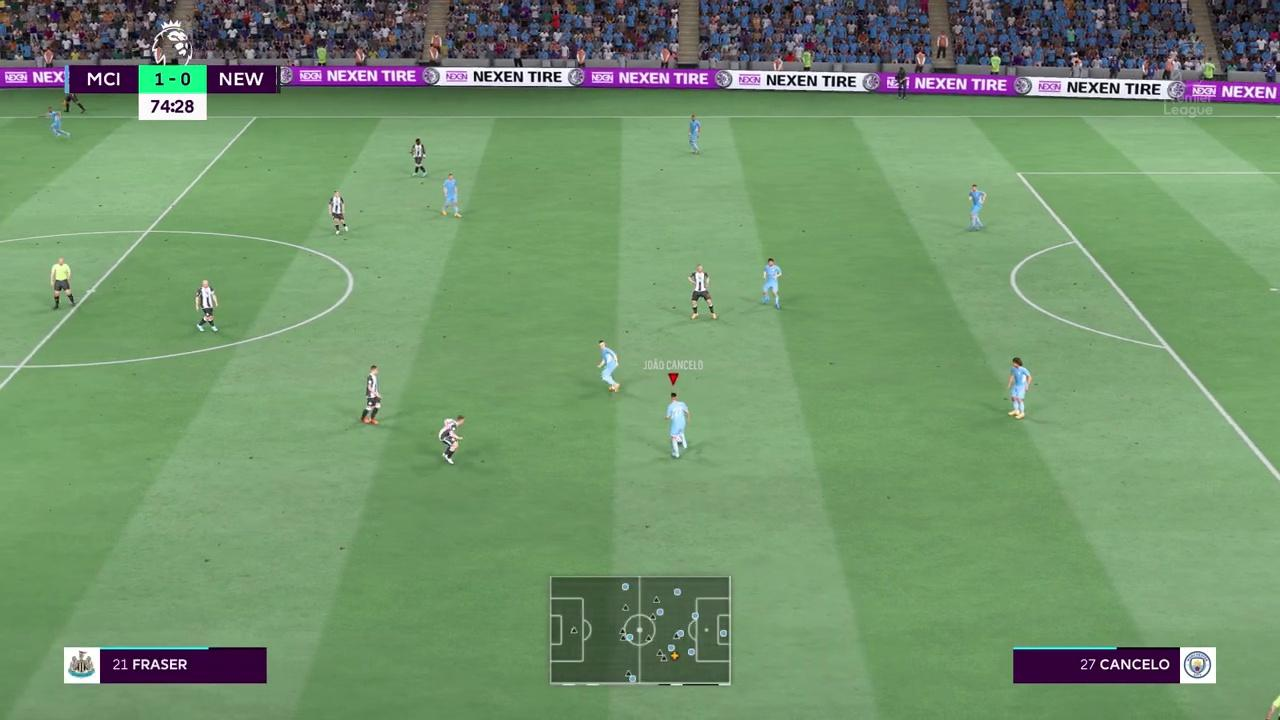scoreboard: (64, 62, 286, 94)
timestamp: (132, 94, 212, 121)
